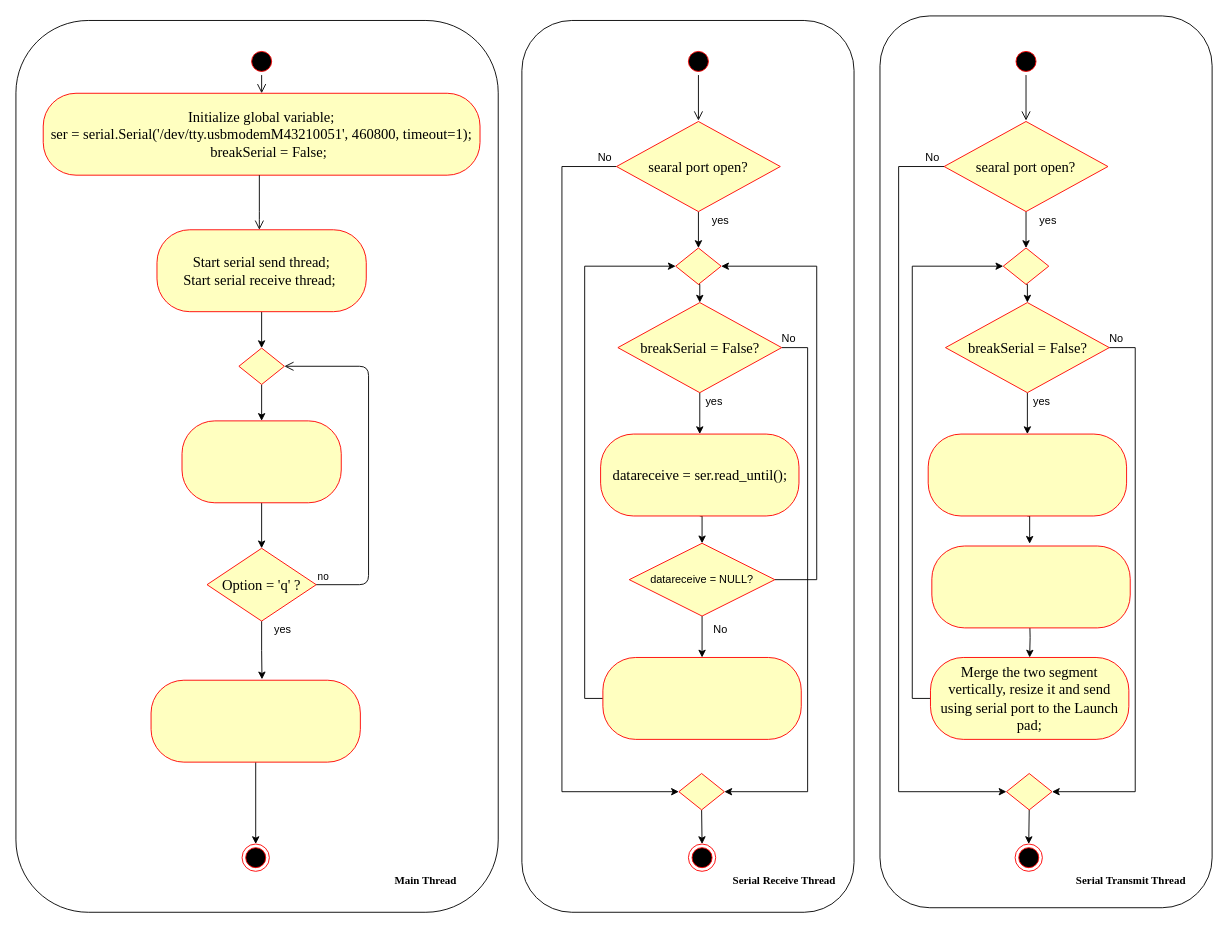
This 1229x928 diagram has some shape labels left out. Here are the shapes that lost their labels. From the top down, the centre of each, then its label:
pixel 261 461: Input option;
pixel 1027 474: Take screenshot of the score of the online game;
pixel 1030 586: divide the image into two equal segment horizontally;
pixel 701 698: decode the received data;
pixel 255 720: breakSerial = True; wait for 1 second;
